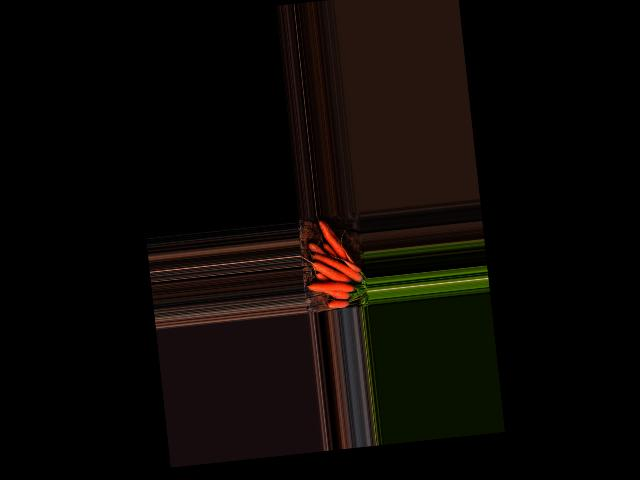carrot: (316, 219, 347, 263)
